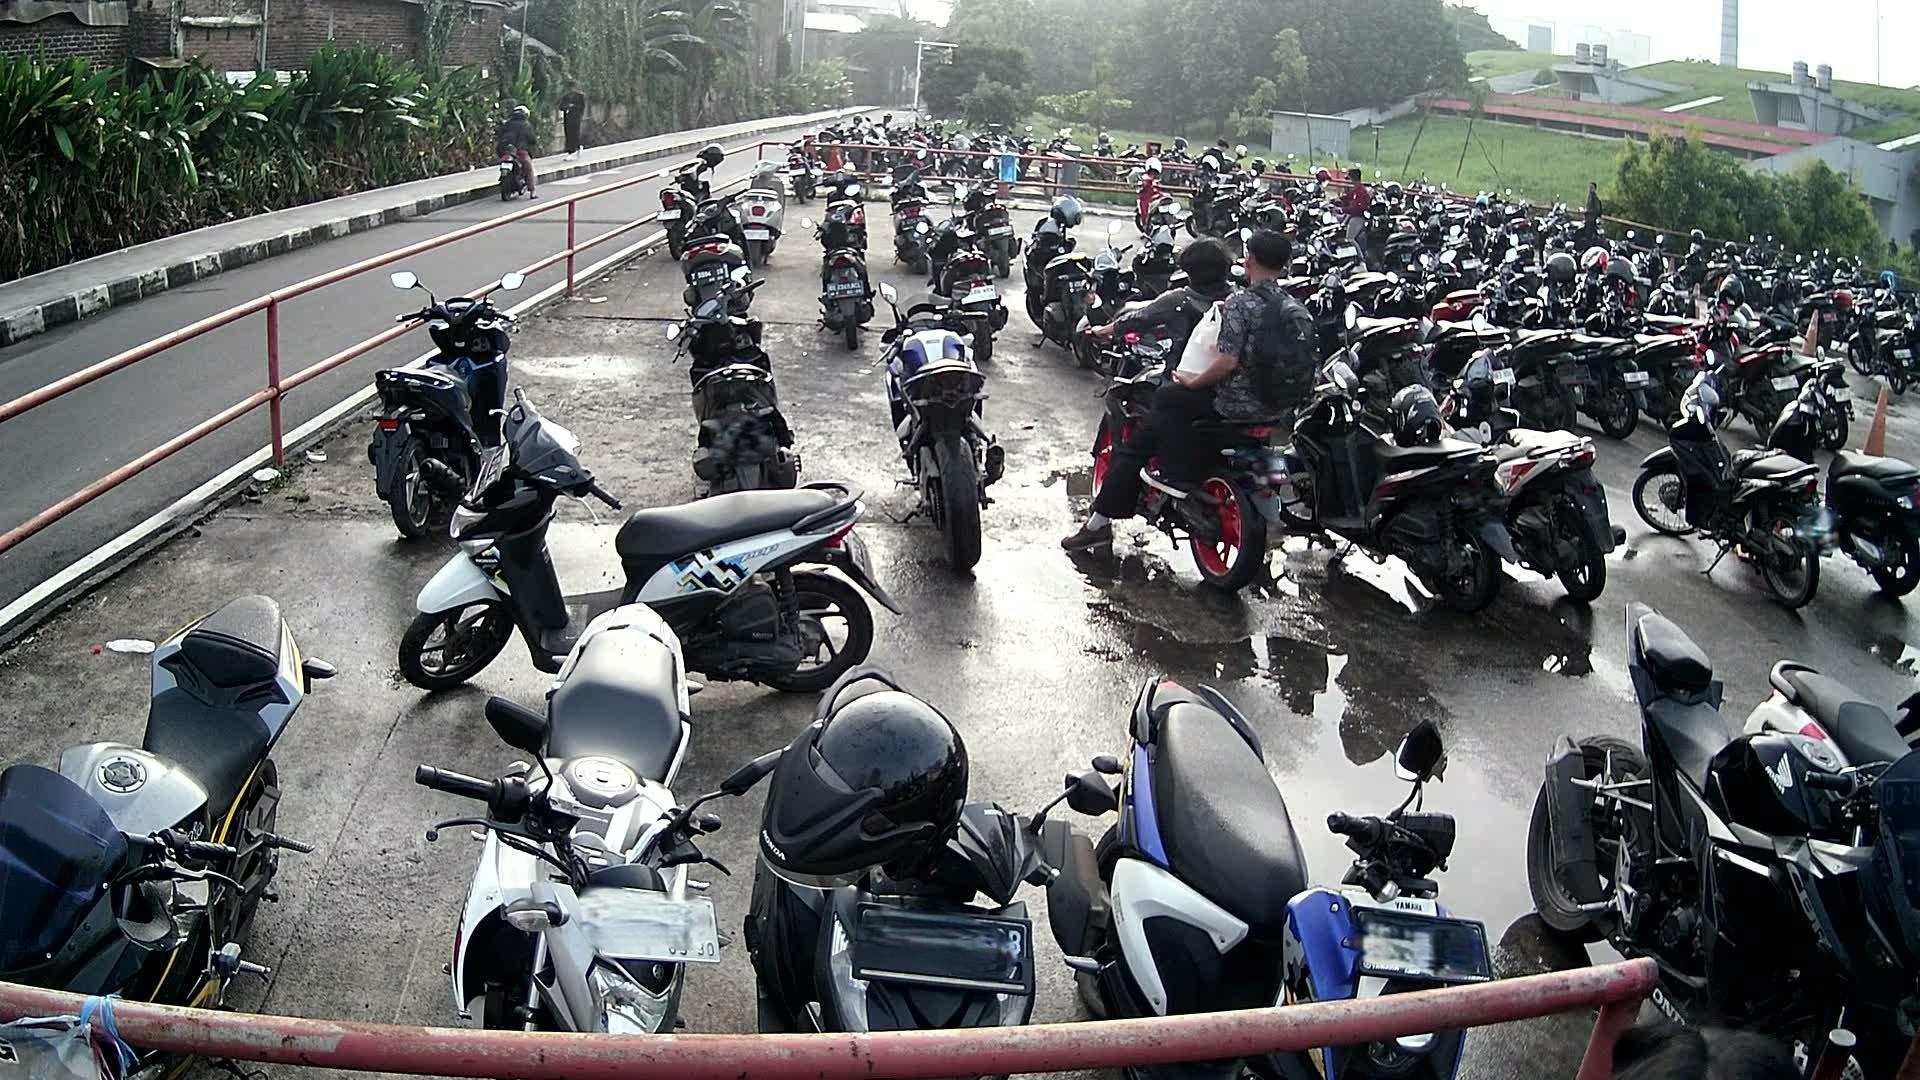motorcycle: (1532, 604, 1920, 1080), (1058, 674, 1495, 1080), (0, 585, 342, 1079), (400, 386, 911, 692), (419, 599, 740, 1080), (752, 667, 1056, 1080), (1079, 324, 1305, 593), (1300, 351, 1514, 617), (1635, 368, 1830, 612), (1447, 340, 1627, 599), (367, 264, 525, 539), (876, 282, 1021, 571), (1775, 364, 1920, 597), (665, 280, 803, 485), (1742, 654, 1920, 773)
